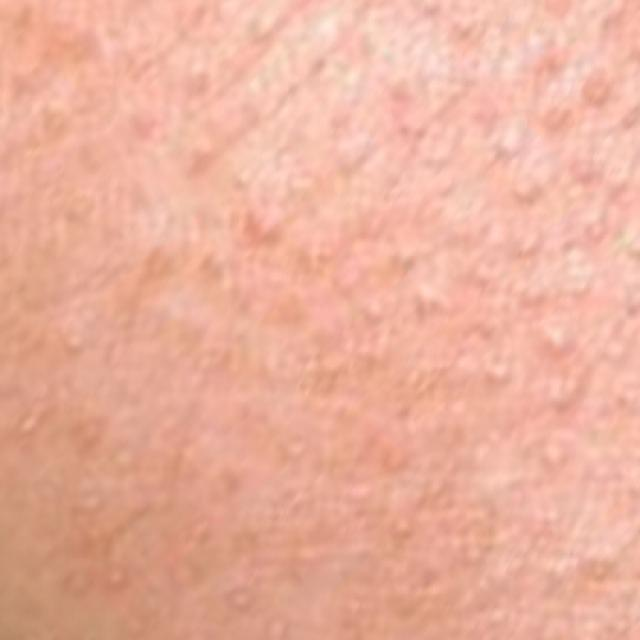keratosis pilaris: (2, 0, 638, 638)
